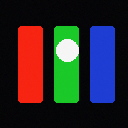2 circle: (56, 39, 78, 61)
